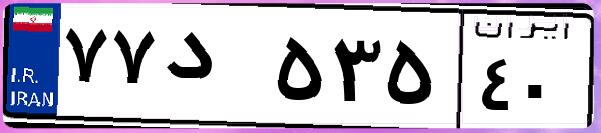0: (525, 38, 570, 115)
3: (330, 28, 385, 110)
4: (475, 38, 525, 113)
5: (270, 28, 330, 110), (385, 28, 445, 110)
7: (57, 26, 110, 100), (110, 28, 158, 98)
د: (158, 20, 270, 120)
